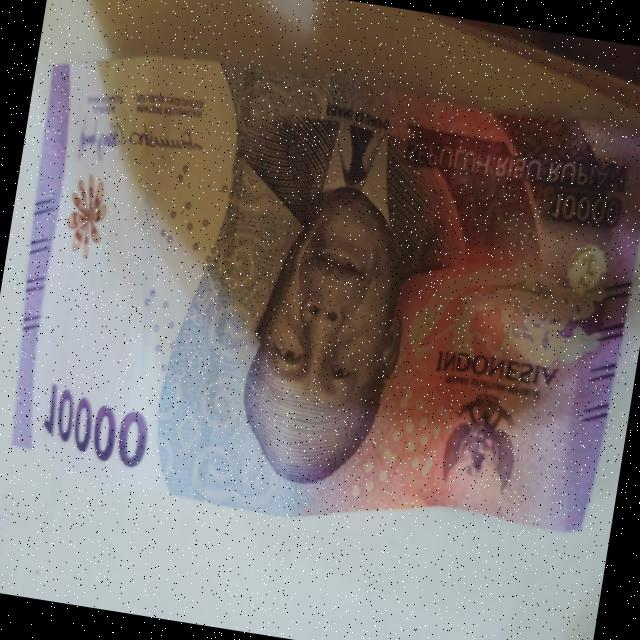10K: (0, 22, 640, 552)
